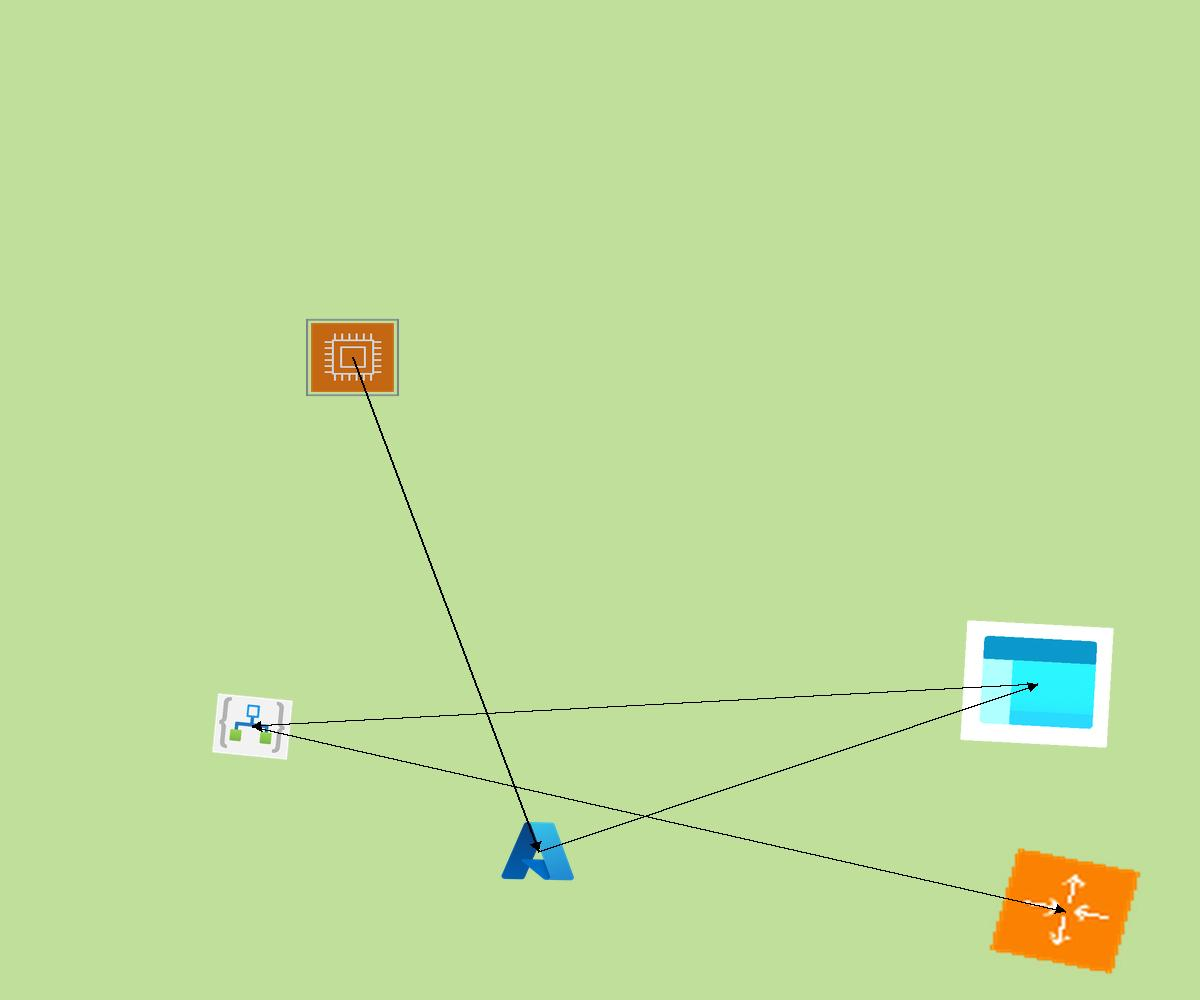AWS-Category_Compute: (305, 318, 400, 397)
AWS-Scaling-group: (987, 846, 1143, 976)
Azure_integration-204-Logic-Apps: (212, 693, 293, 760)
Azure_management-portal: (960, 620, 1114, 748)
Azure_services: (498, 817, 579, 885)
